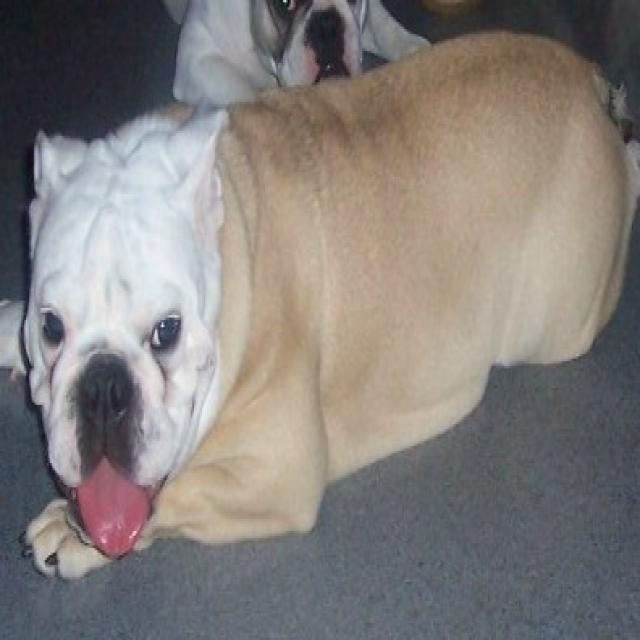dogs: (0, 29, 640, 581), (159, 0, 436, 109)
